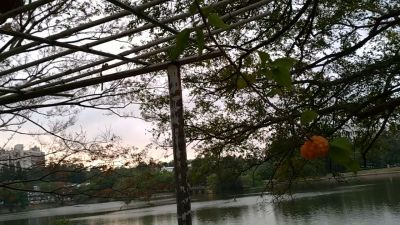eggs: (298, 134, 331, 161)
